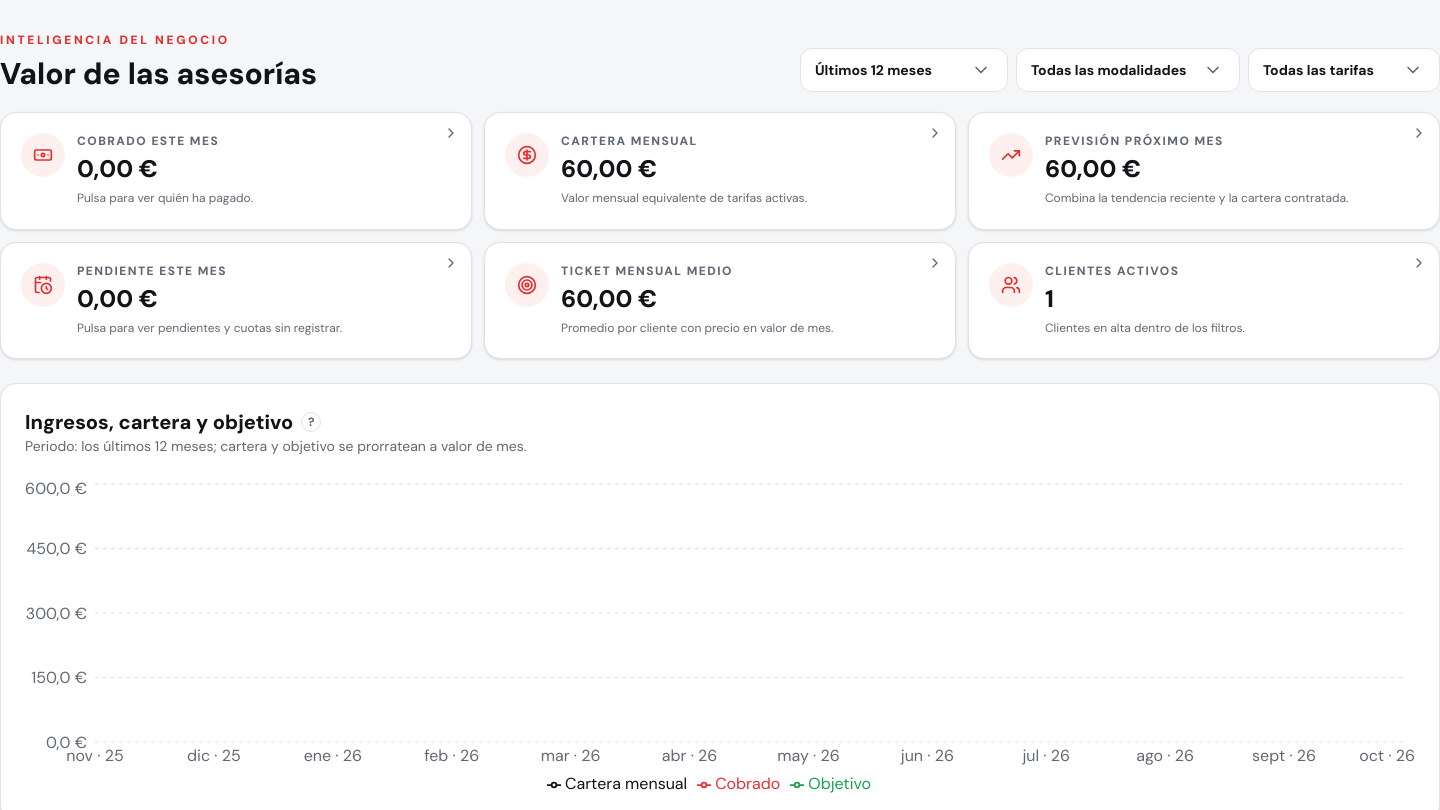
Test: DashboardAnalytics › muestra los clientes activos sin cuota mensual dentro de pendientes
Click the button "Pendiente este mes" at (43,284), box [0, 242, 472, 359]
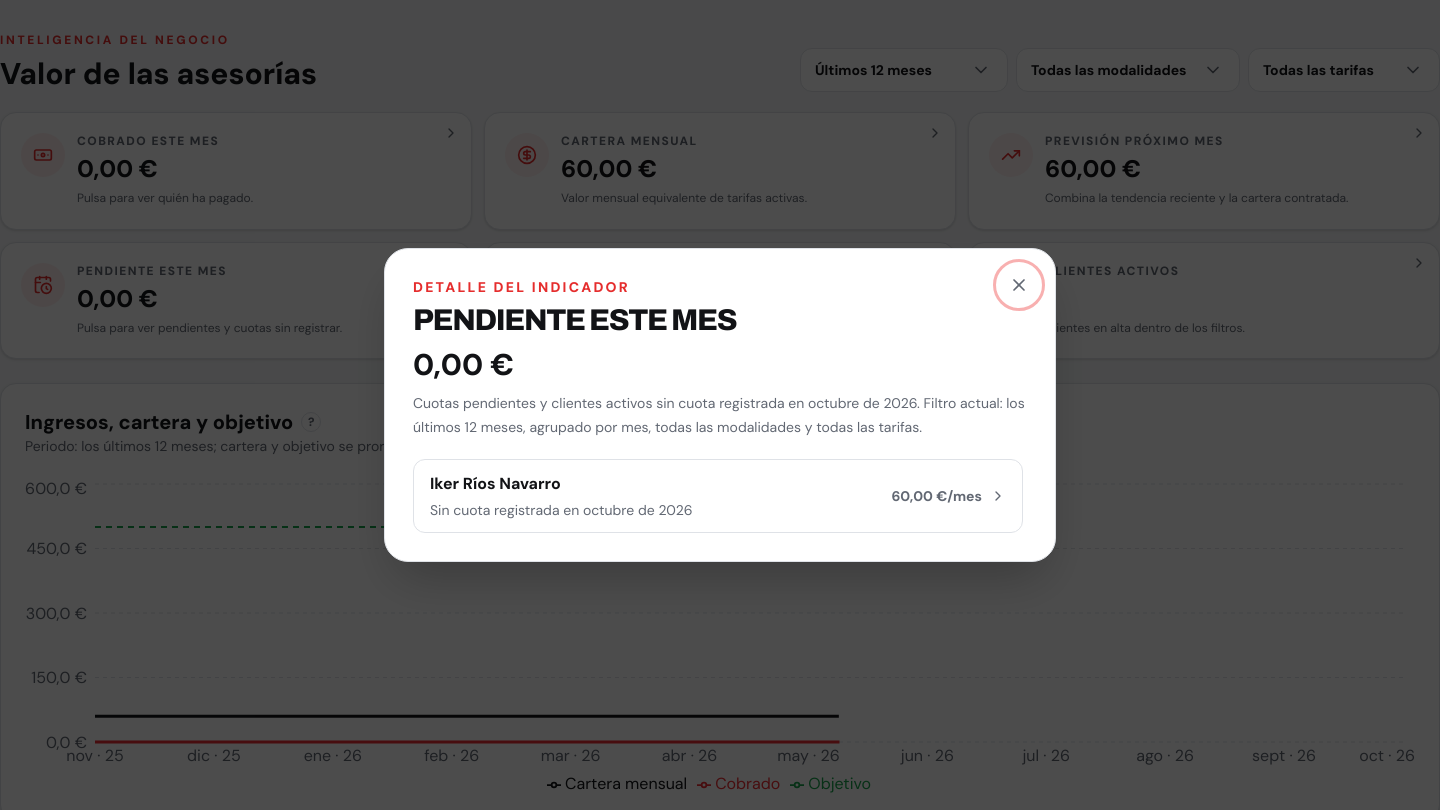
Expected: the dialog "Pendiente este mes" is shown, [384, 248, 1056, 562]
Expected: the text "Sin cuota registrada en octubre de 2026" is shown, [430, 500, 693, 520]
